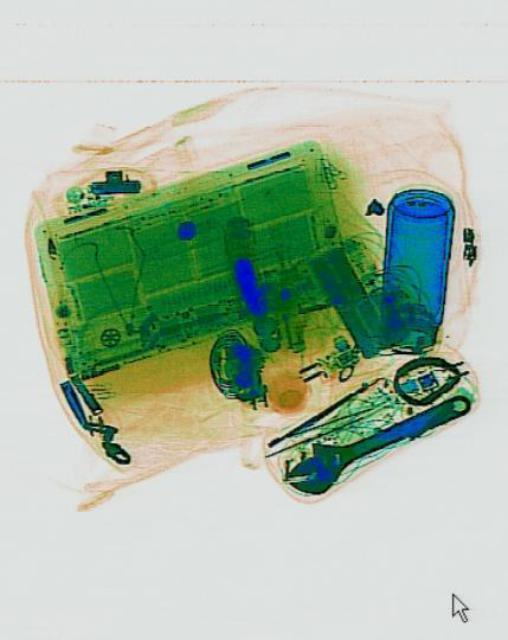Wrench: (276, 372, 475, 504)
